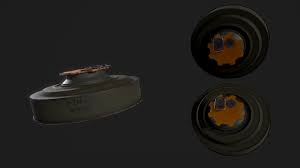car: (21, 58, 138, 136)
